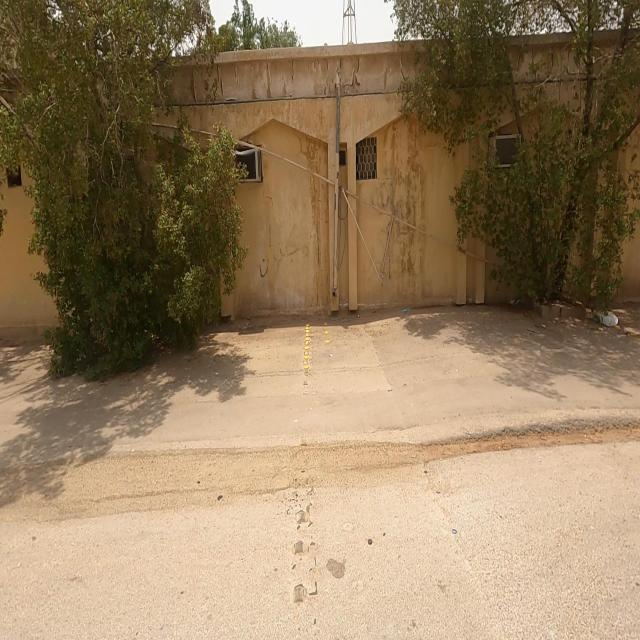Graffiti: (258, 220, 306, 280)
